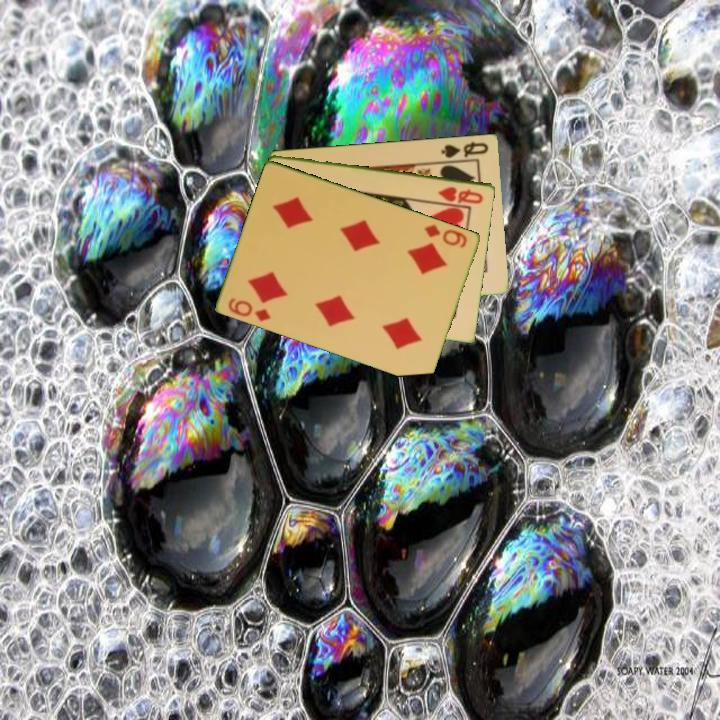6d: (421, 221, 470, 251), (225, 294, 274, 324)
Qh: (434, 183, 486, 206)
Qs: (438, 138, 492, 160)
